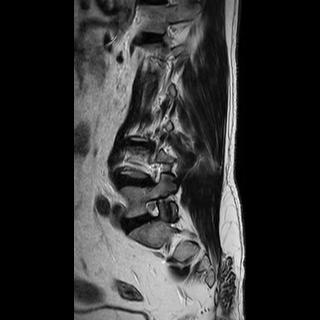LFS0: (140, 193, 165, 226)
